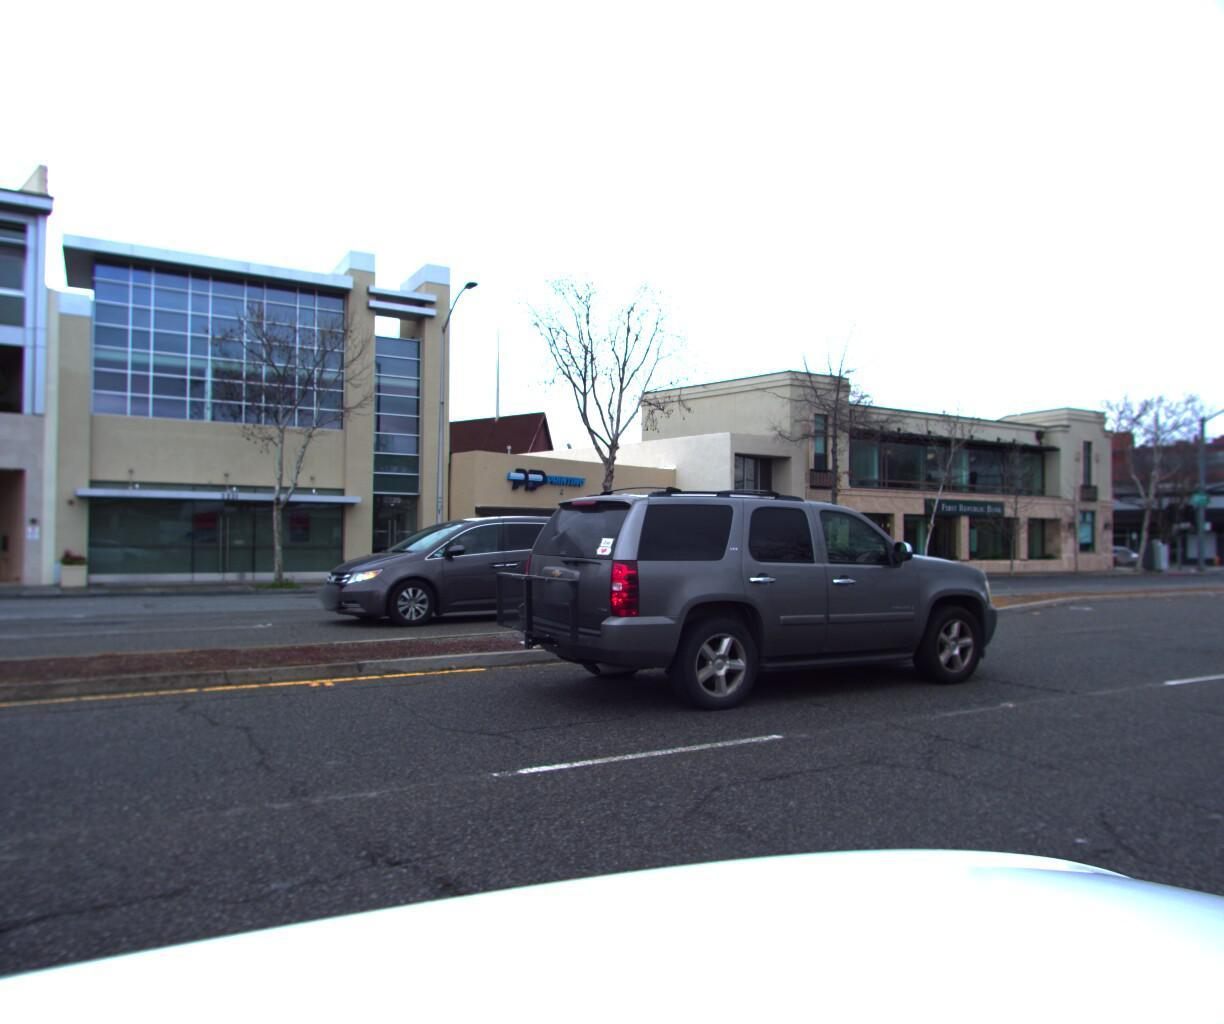car: (482, 472, 1005, 736), (300, 498, 637, 640), (1212, 553, 1224, 576)
